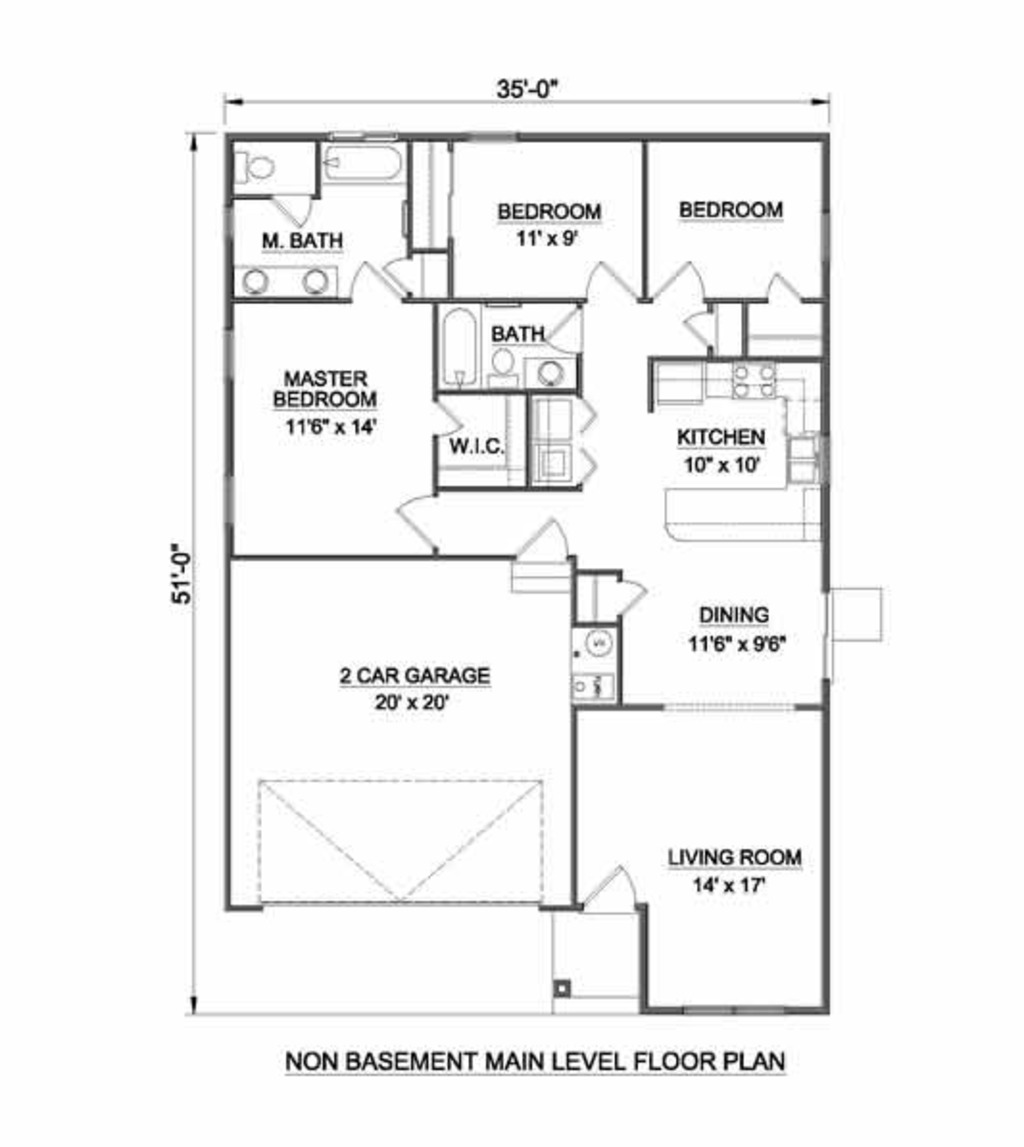door: (575, 863, 652, 920), (389, 487, 447, 558), (577, 253, 640, 310), (514, 507, 572, 560), (540, 300, 593, 357), (650, 253, 707, 304), (346, 254, 399, 306), (762, 262, 817, 308), (426, 400, 470, 450), (607, 576, 649, 628), (376, 243, 420, 291), (268, 193, 318, 231), (682, 300, 715, 354)
large_sink: (227, 141, 293, 185), (478, 348, 517, 392)
small_sink: (230, 257, 336, 299), (528, 355, 576, 391)
tub: (428, 295, 483, 393), (320, 145, 409, 181)
twin_sink: (762, 430, 834, 489)
